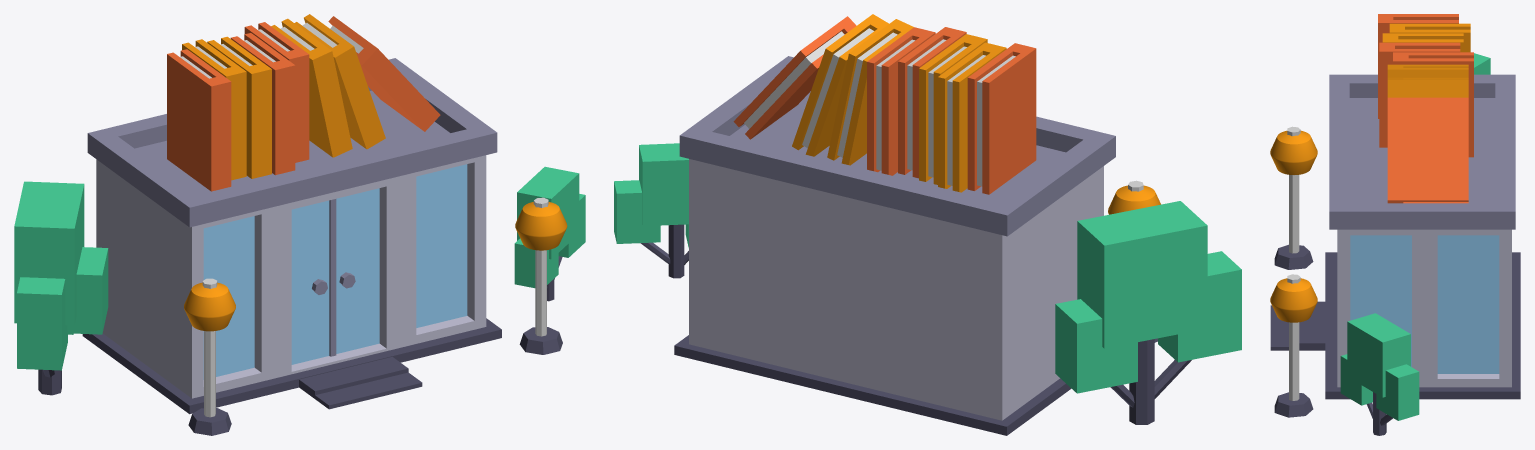
Rendered from book_shop.glb.
3 views of the same model, side by side, from view 1: azimuth 30°, elevation 25°; view 2: azimuth 150°, elevation 25°; view 3: azimuth 270°, elevation 25° (orthographic). The views are drawn at different scales.
Parts seen in each view (by area): view 1: Cube.226, Cube.238, Cube.228, Cube.534, Cube.243, Cube.536, Cube.244, Cube.541, Cube.232, Cube.246, Cube.234, Cube.250 (+13 smaller); view 2: Cube.226, Cube.238, Cube.534, Cube.228, Cube.243, Cube.535, Cube.536, Cube.236, Cube.230, Cube.538, Cube.244, Cube.246 (+15 smaller); view 3: Cube.226, Cube.238, Cube.250, Cube.243, Cube.538, Cube.540, Cube.234, Cube.541, Cube.246, Cylinder.001, Cylinder, Cube.236 (+11 smaller).
Boxes of the visible parts, <box> form: Cube.226: <box>96,155,486,398</box>; Cube.238: <box>87,58,497,227</box>; Cube.228: <box>167,49,231,191</box>; Cube.534: <box>14,181,84,325</box>; Cube.243: <box>82,318,501,414</box>; Cube.536: <box>17,277,67,370</box>; Cube.244: <box>271,18,352,157</box>; Cube.541: <box>299,356,422,409</box>; Cube.232: <box>207,36,271,178</box>; Cube.246: <box>294,14,385,149</box>; Cube.234: <box>230,33,295,175</box>; Cube.250: <box>328,16,440,131</box>; Cube.226: <box>689,159,1103,420</box>; Cube.238: <box>679,56,1115,236</box>; Cube.534: <box>1077,201,1207,348</box>; Cube.228: <box>967,43,1036,194</box>; Cube.243: <box>674,335,1071,435</box>; Cube.535: <box>1055,299,1137,393</box>; Cube.536: <box>1158,251,1241,362</box>; Cube.236: <box>867,27,935,175</box>; Cube.230: <box>938,42,1006,192</box>; Cube.538: <box>639,143,688,226</box>; Cube.244: <box>827,19,913,165</box>; Cube.246: <box>792,14,888,156</box>; Cube.226: <box>1337,229,1511,387</box>; Cube.238: <box>1329,74,1515,229</box>; Cube.250: <box>1387,97,1468,203</box>; Cube.243: <box>1325,252,1520,399</box>; Cube.538: <box>1347,313,1410,397</box>; Cube.540: <box>1376,364,1419,420</box>; Cube.234: <box>1379,42,1460,147</box>; Cube.541: <box>1270,301,1325,350</box>; Cube.246: <box>1387,77,1468,97</box>; Cylinder.001: <box>1270,278,1317,322</box>; Cylinder: <box>1270,130,1317,174</box>; Cube.236: <box>1393,52,1473,157</box>.
Bounding box in the file's own units: 9.03 × 4.4 × 3.71.
